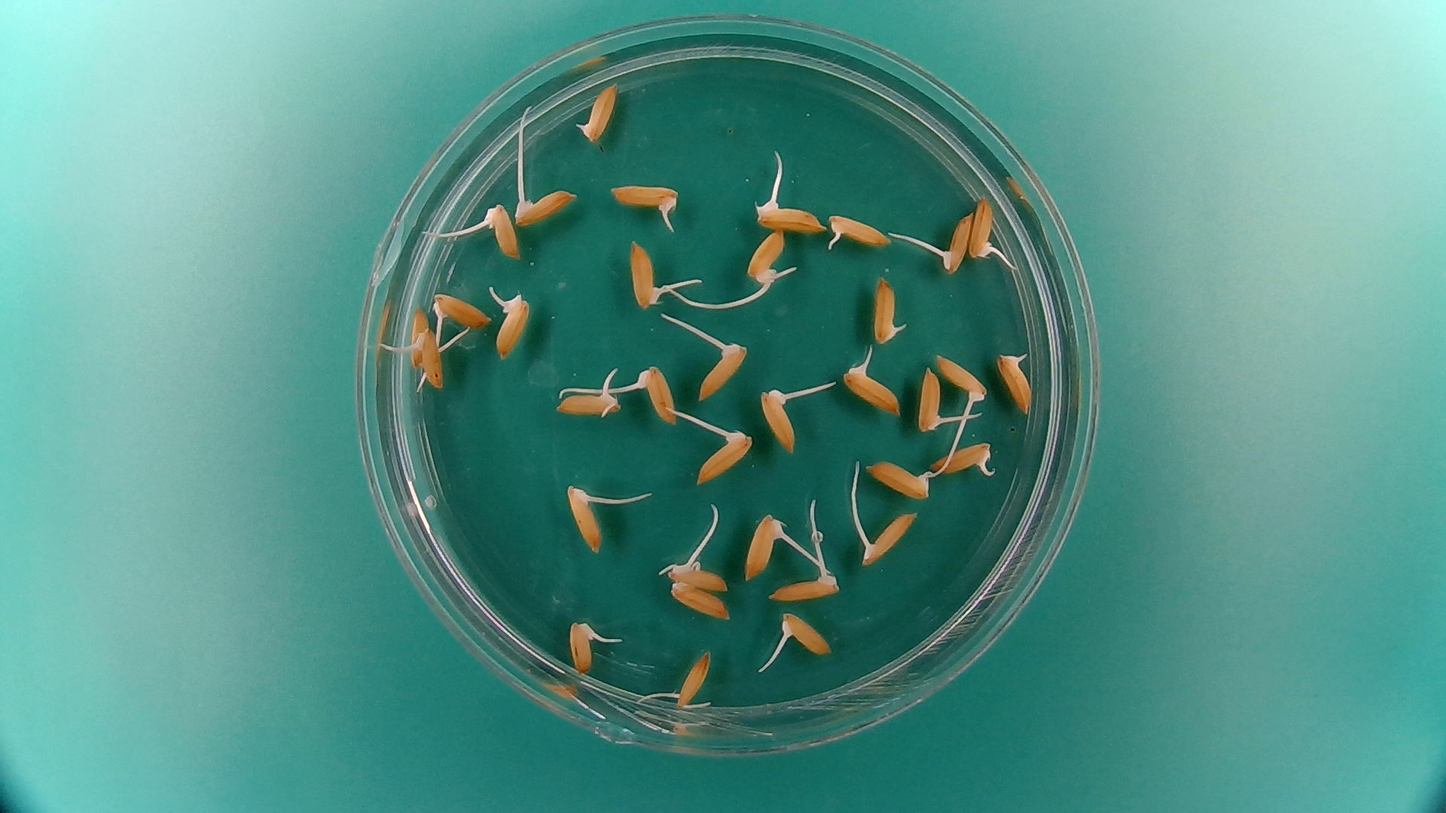no: (667, 581, 733, 621)
yes: (838, 351, 903, 416), (694, 420, 757, 486), (694, 332, 751, 403), (405, 306, 473, 364), (856, 510, 920, 566), (564, 482, 608, 556), (764, 562, 841, 604), (863, 458, 935, 502), (742, 510, 786, 580), (491, 285, 532, 360), (759, 383, 802, 454), (575, 78, 620, 145), (636, 360, 680, 427), (606, 178, 683, 216), (751, 196, 827, 234), (511, 185, 575, 229), (934, 352, 986, 406), (826, 210, 894, 251), (626, 236, 664, 309), (743, 227, 789, 285), (780, 611, 835, 659), (871, 273, 907, 346), (996, 348, 1035, 415), (916, 364, 951, 435), (674, 645, 714, 707), (936, 212, 974, 276), (931, 440, 995, 478), (419, 324, 454, 391), (429, 292, 496, 327), (660, 561, 733, 593), (554, 386, 623, 419), (483, 199, 520, 259), (967, 193, 999, 262), (566, 618, 600, 676)
